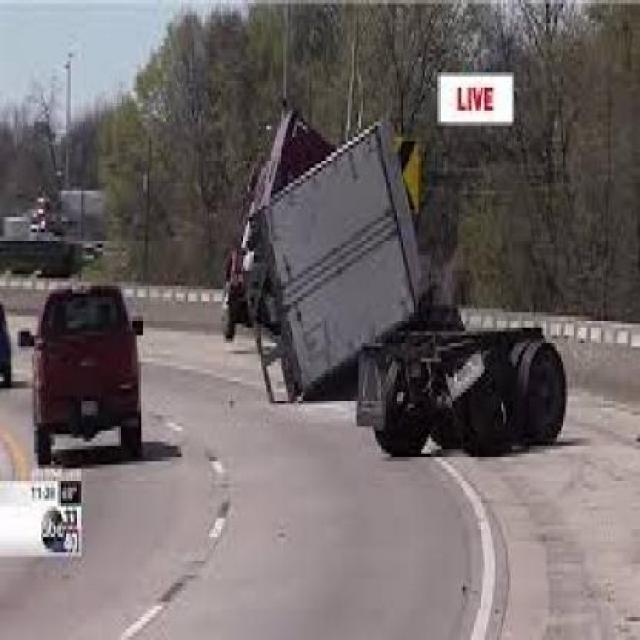accident: (175, 88, 567, 490)
